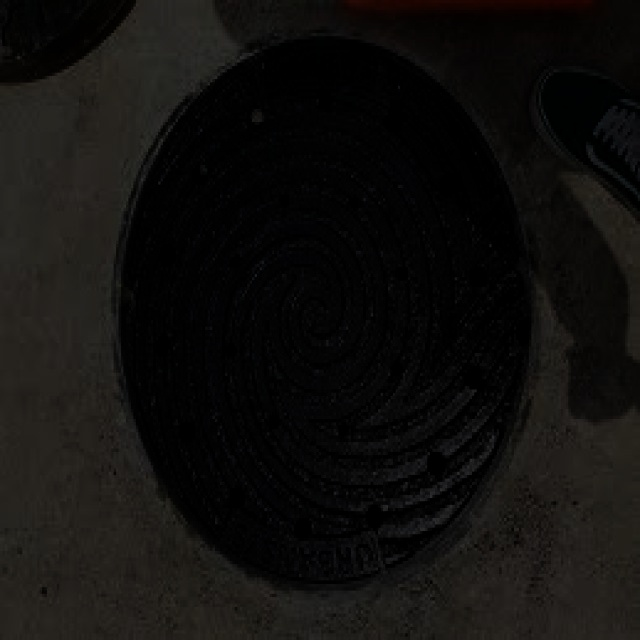Sewer Cover: (82, 11, 553, 606)
